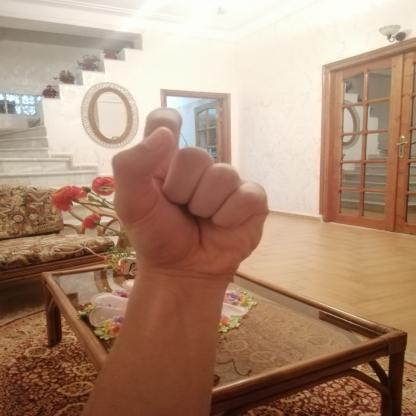FAA: (90, 97, 284, 291)
